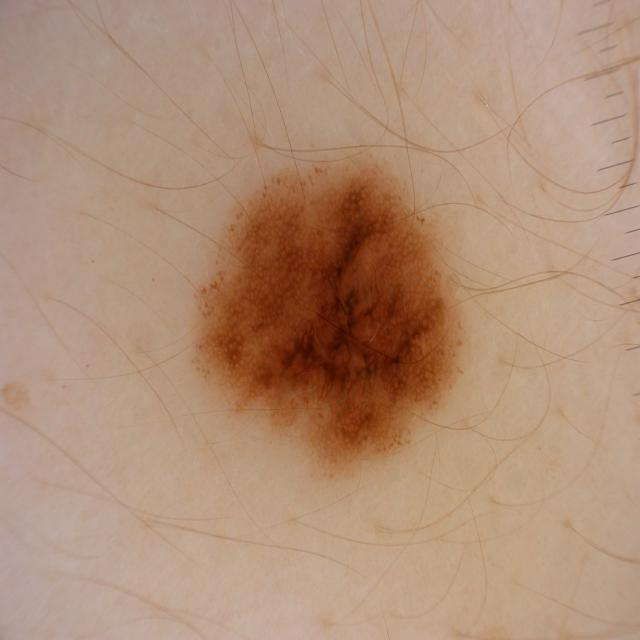Benign: (177, 150, 473, 484)
